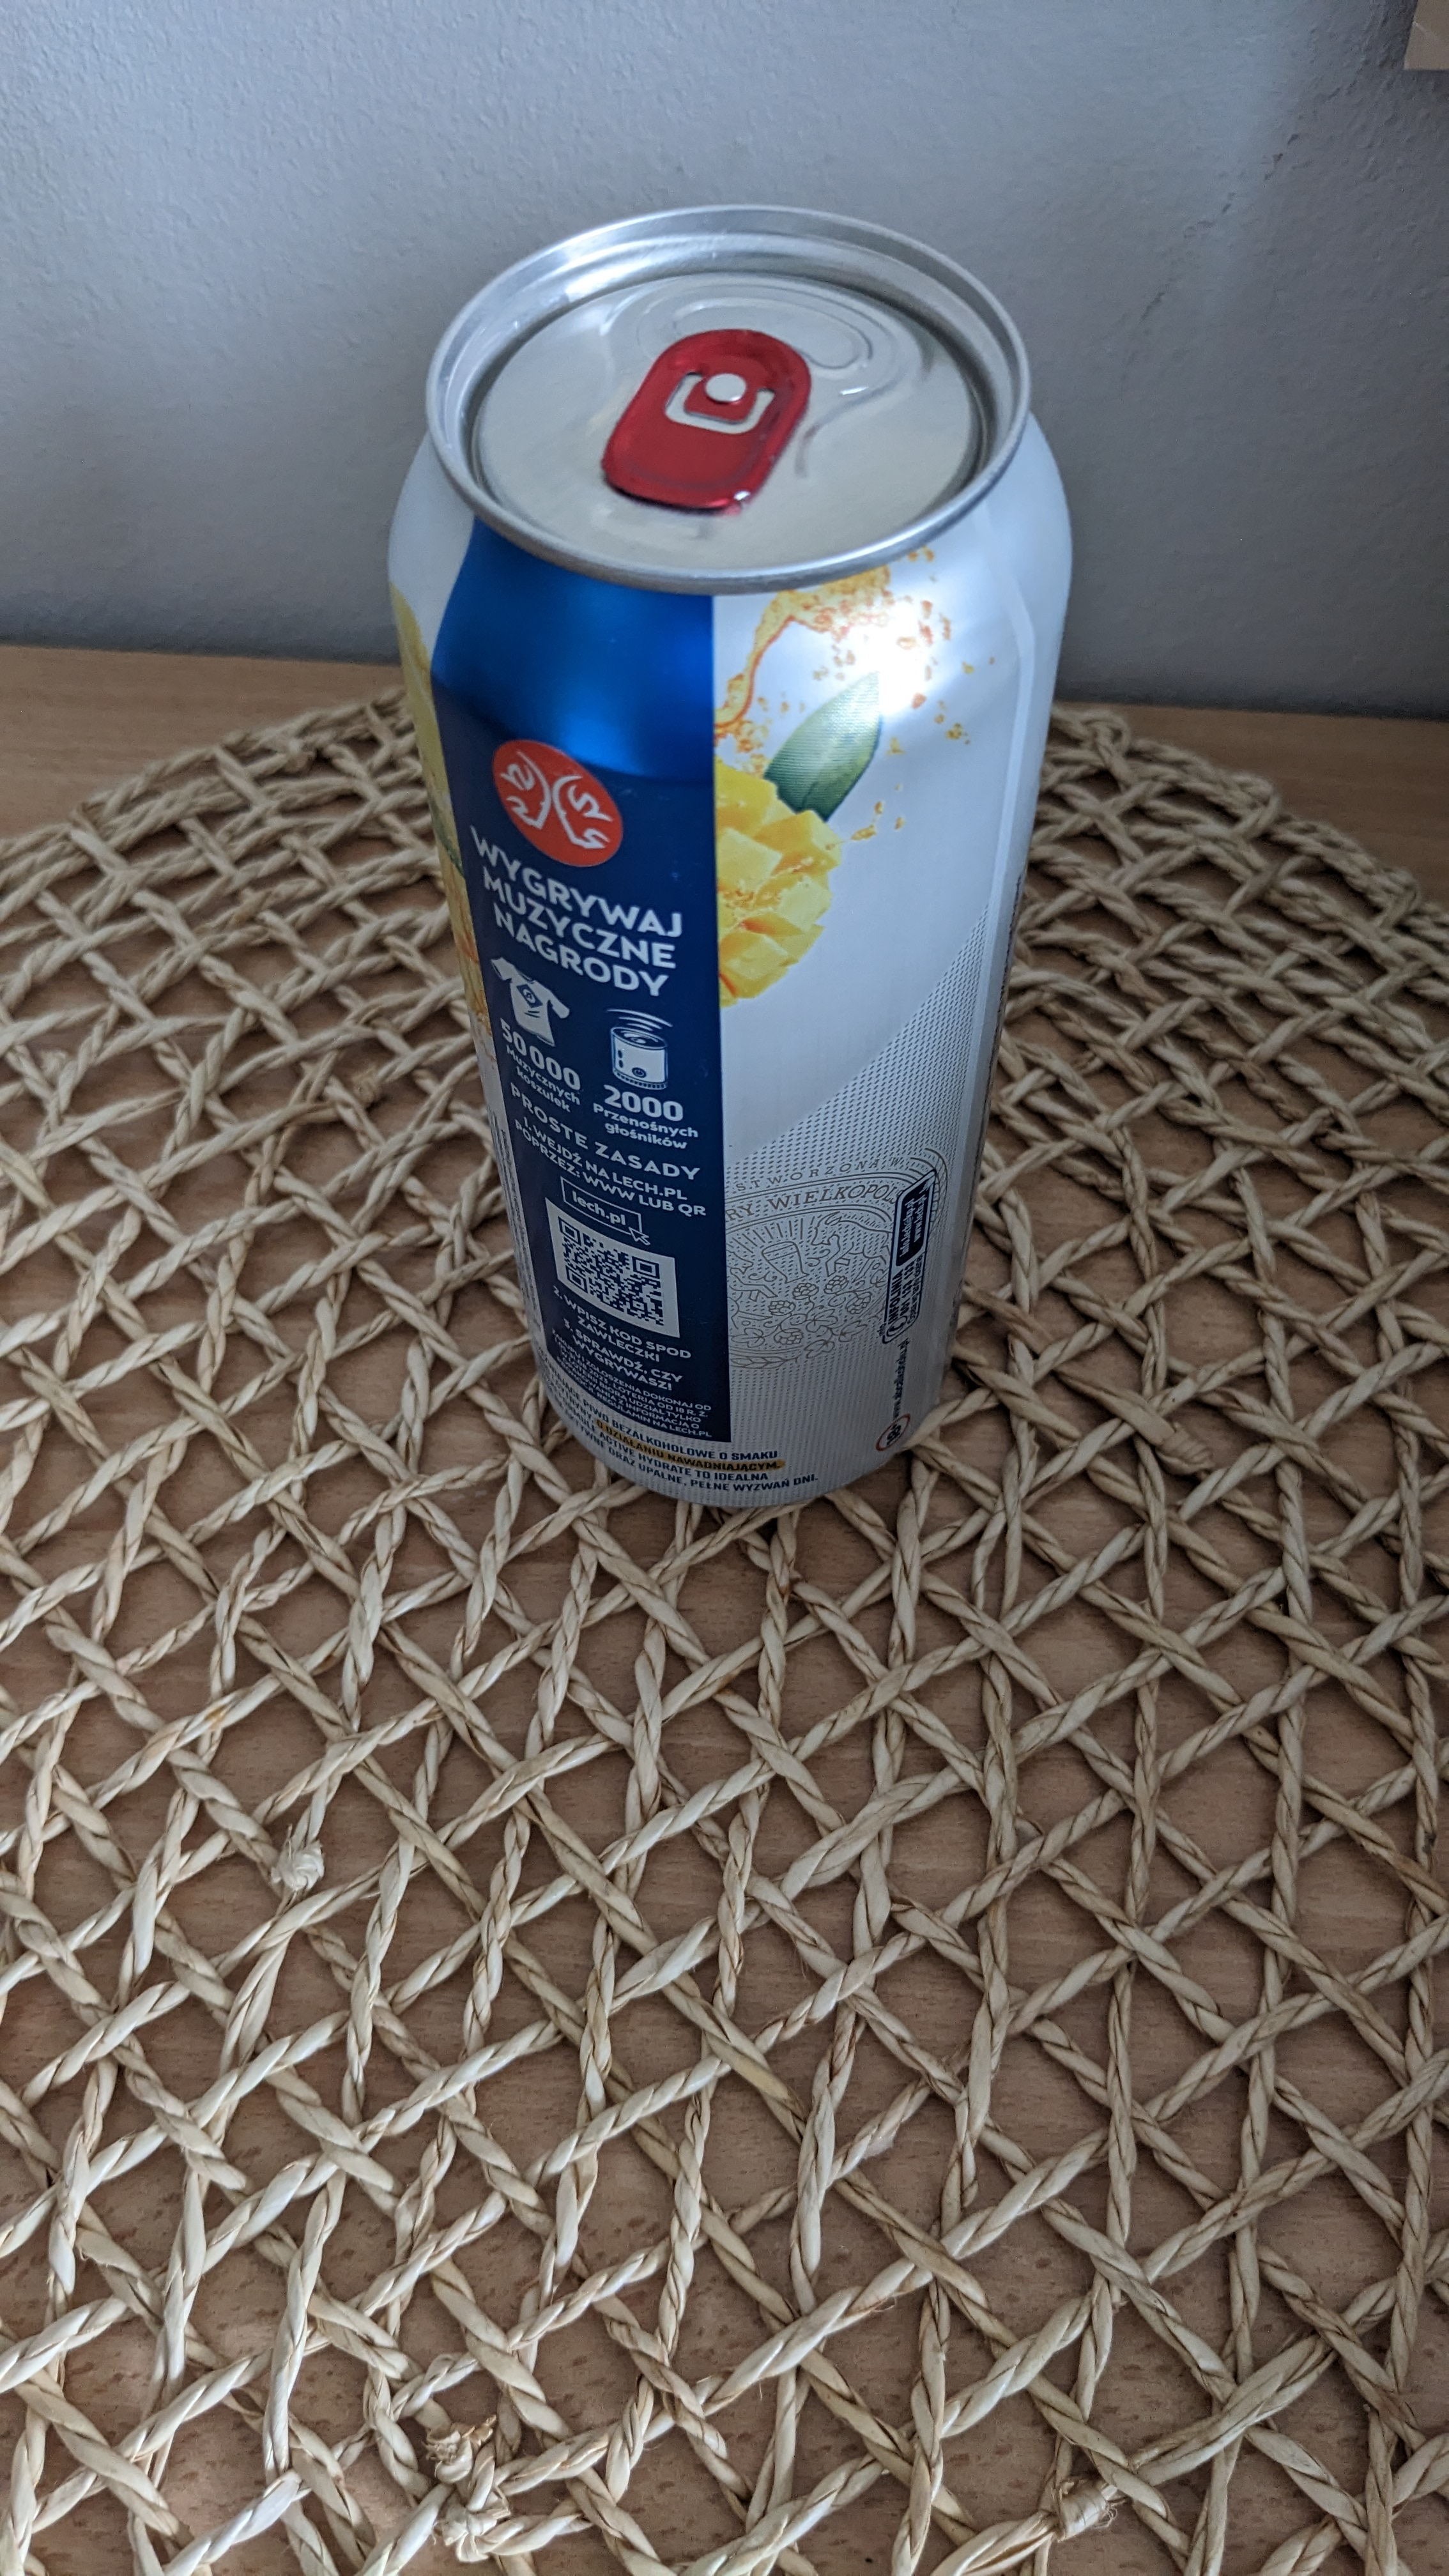lech-active: (336, 184, 1097, 1543)
